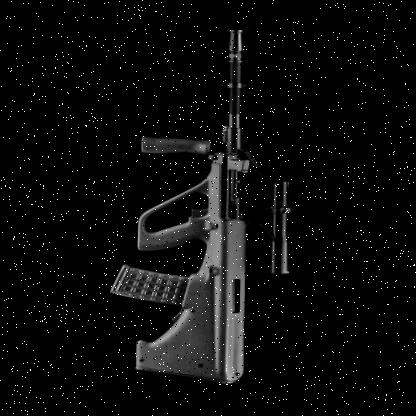rifle: (96, 27, 306, 387)
